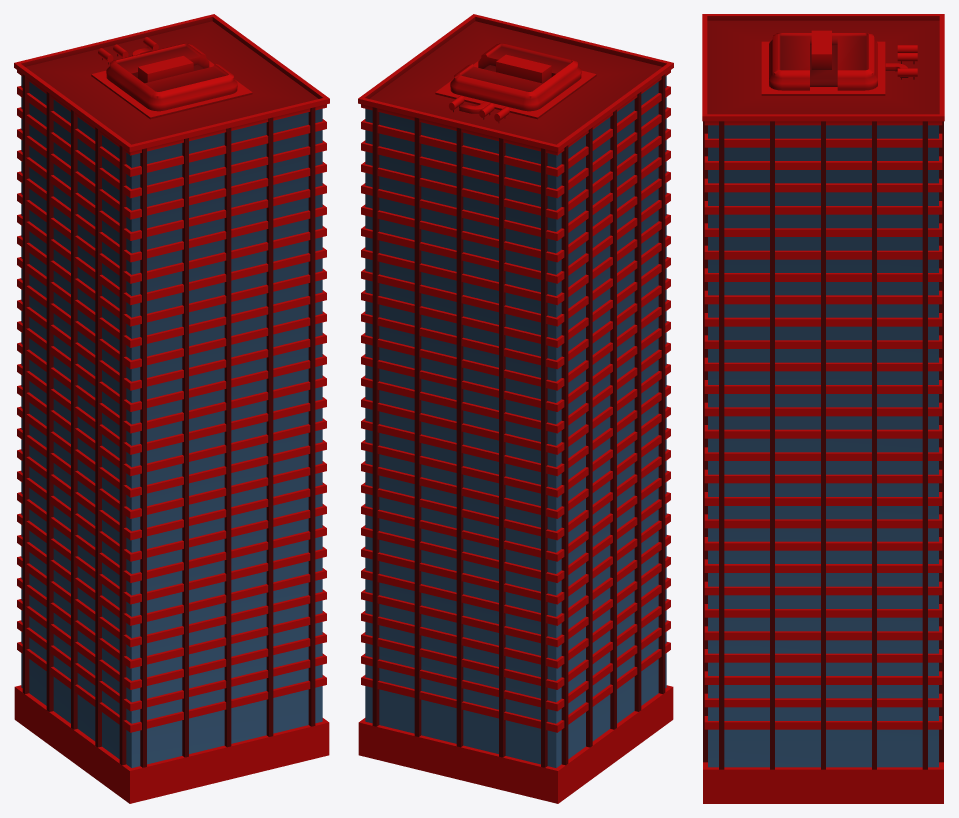
The model's file is buildings-industrial-traditionalskyscraper_v2.fbx.
3 views of the same model, side by side, from view 1: azimuth 30°, elevation 25°; view 2: azimuth 150°, elevation 25°; view 3: azimuth 270°, elevation 25° (orthographic). The views are drawn at different scales.
Parts seen in each view (by area): view 1: TraditionalSkyscraper_v2_base, TraditionalSkyscraper_v2_windowRefl; view 2: TraditionalSkyscraper_v2_base, TraditionalSkyscraper_v2_windowRefl; view 3: TraditionalSkyscraper_v2_base, TraditionalSkyscraper_v2_windowRefl.
Part boxes in pixels (left/top/right/bottom): TraditionalSkyscraper_v2_base: left=14, top=14, right=329, bottom=803; TraditionalSkyscraper_v2_windowRefl: left=21, top=76, right=322, bottom=767; TraditionalSkyscraper_v2_base: left=358, top=14, right=673, bottom=803; TraditionalSkyscraper_v2_windowRefl: left=365, top=76, right=666, bottom=767; TraditionalSkyscraper_v2_base: left=702, top=14, right=944, bottom=803; TraditionalSkyscraper_v2_windowRefl: left=708, top=125, right=938, bottom=767.
Bounding box in the file's own units: 21.03 × 67.7 × 21.03.
